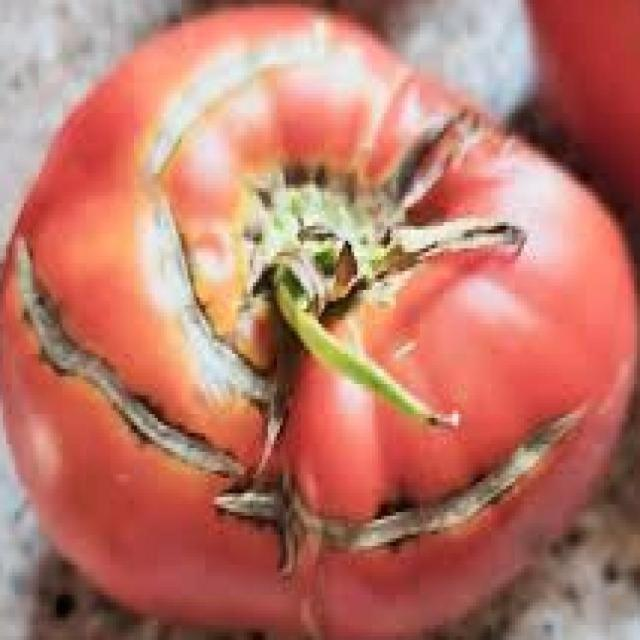Cracking Fruit: (90, 104, 338, 310)
